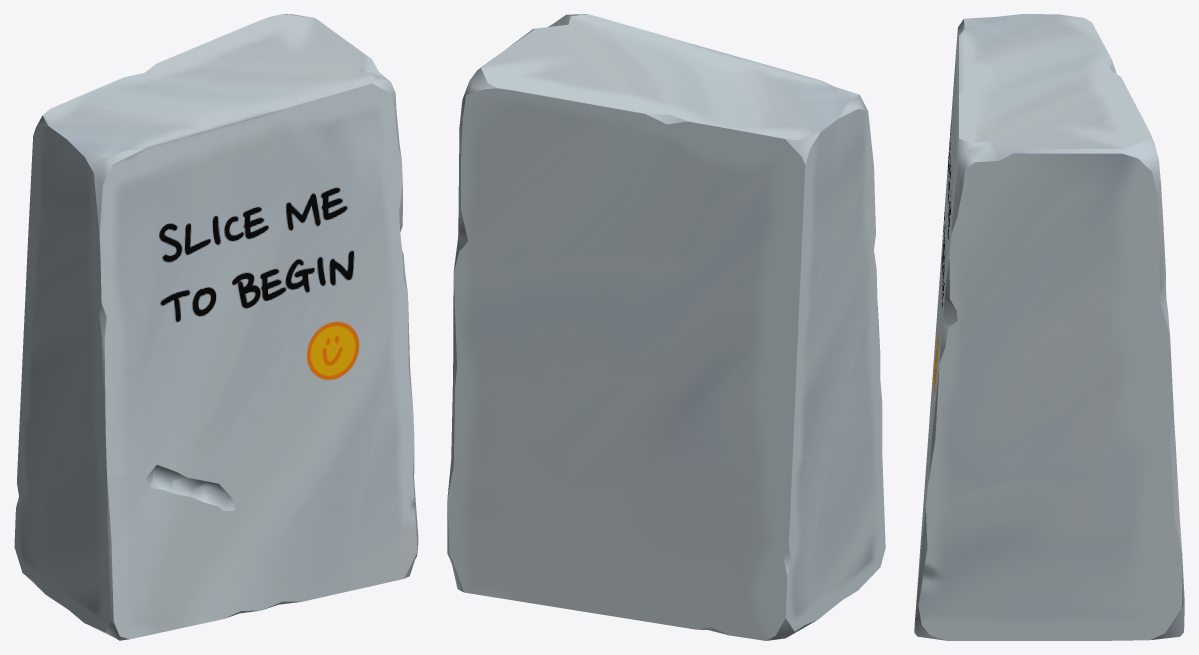
File: monolith.fbx
3 views of the same model, side by side, from view 1: azimuth 30°, elevation 25°; view 2: azimuth 150°, elevation 25°; view 3: azimuth 270°, elevation 25° (orthographic). The views are drawn at different scales.
Visible parts, largest first — view 1: Cube_dmg; view 2: Cube_dmg; view 3: Cube_dmg.
Boxes of the visible parts, <box> form: Cube_dmg: <box>14,14,418,640</box>; Cube_dmg: <box>447,14,885,640</box>; Cube_dmg: <box>914,14,1184,640</box>.
Size of the model in its own units: 134 by 205 by 103.
